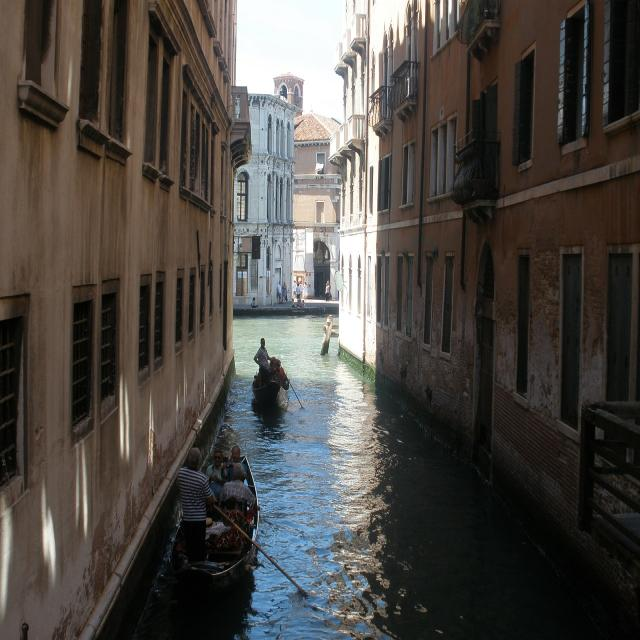boat: (162, 402, 266, 616), (244, 330, 306, 434)
